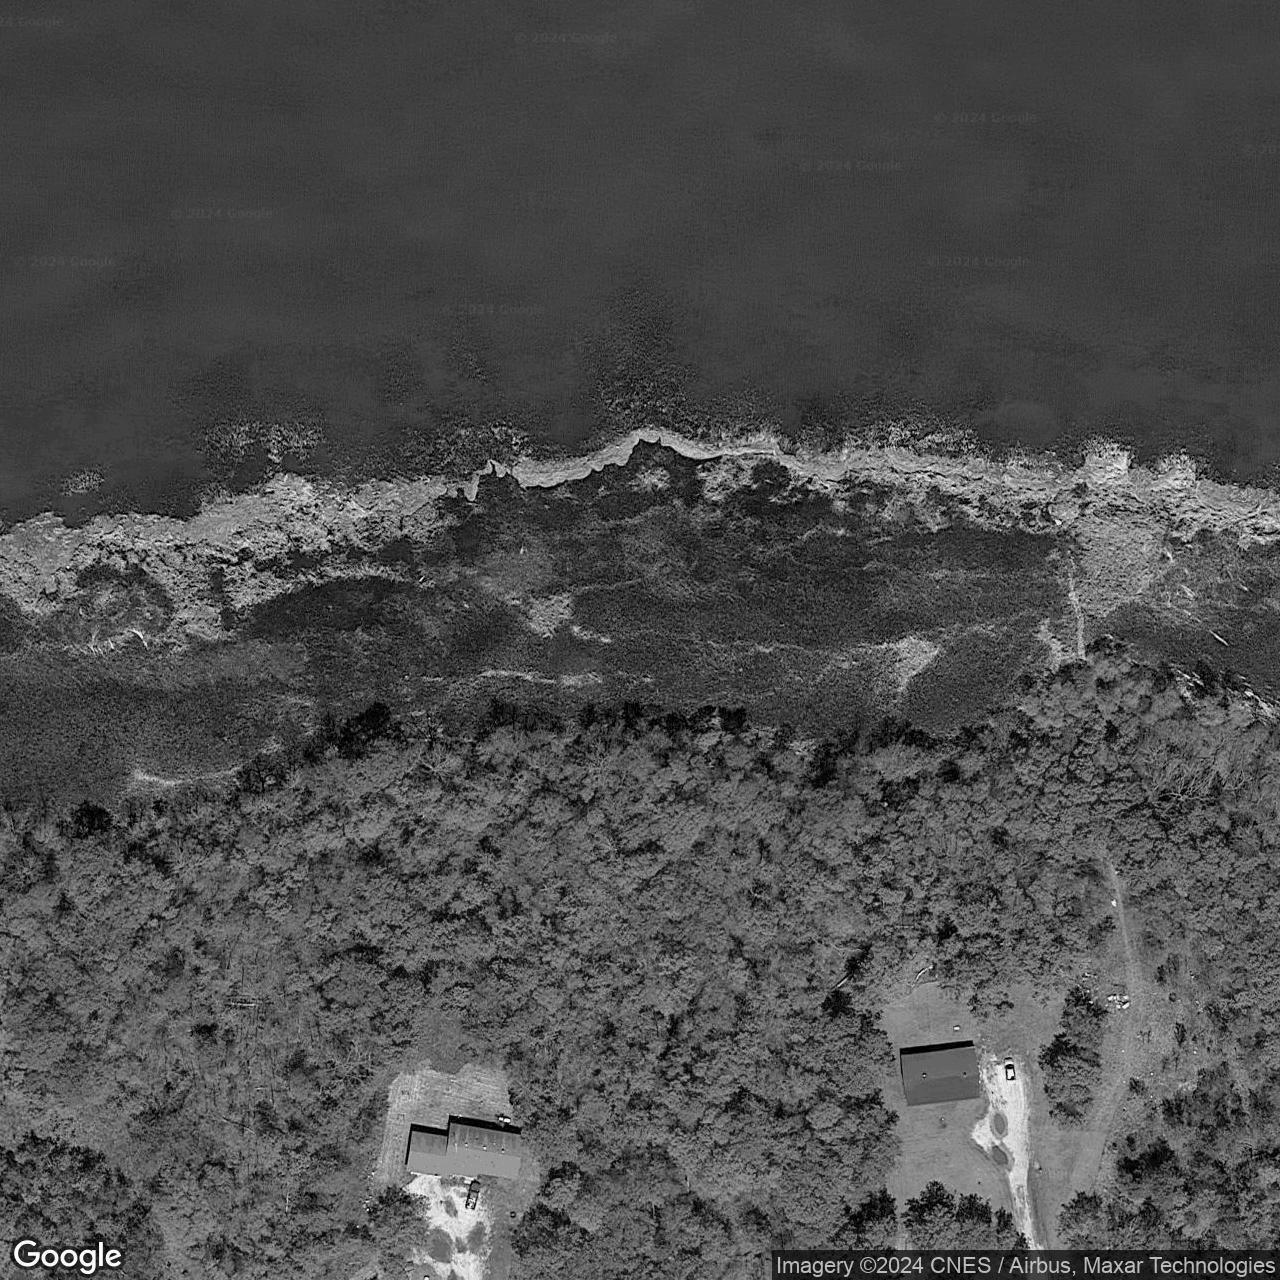House: (404, 1122, 525, 1180), (899, 1046, 981, 1108)
